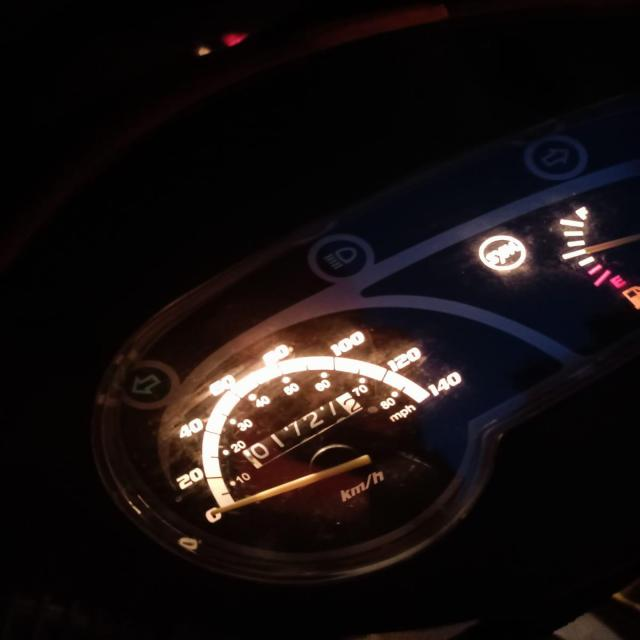odometer: (241, 391, 369, 468)
